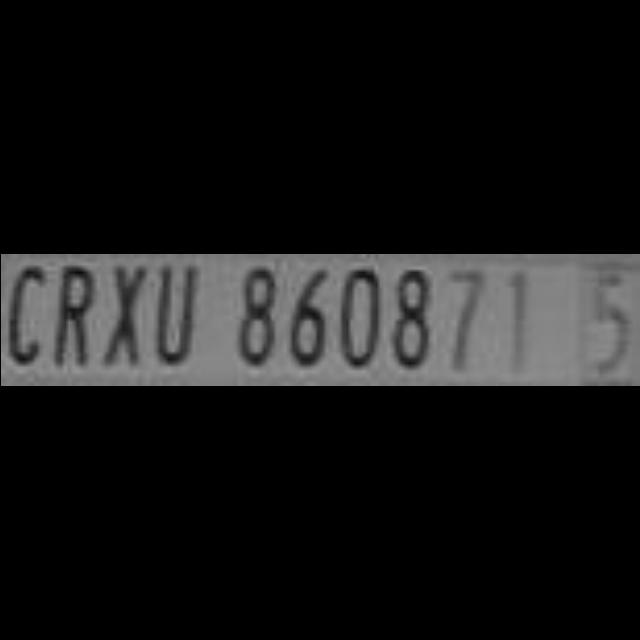0: (332, 254, 386, 382)
1: (494, 254, 540, 378)
5: (578, 254, 640, 386)
6: (280, 255, 334, 382)
7: (441, 254, 492, 386)
8: (232, 254, 284, 384), (388, 254, 438, 386)
c: (0, 255, 56, 387)
r: (46, 254, 100, 378)
u: (150, 255, 206, 385)
x: (97, 255, 155, 387)
